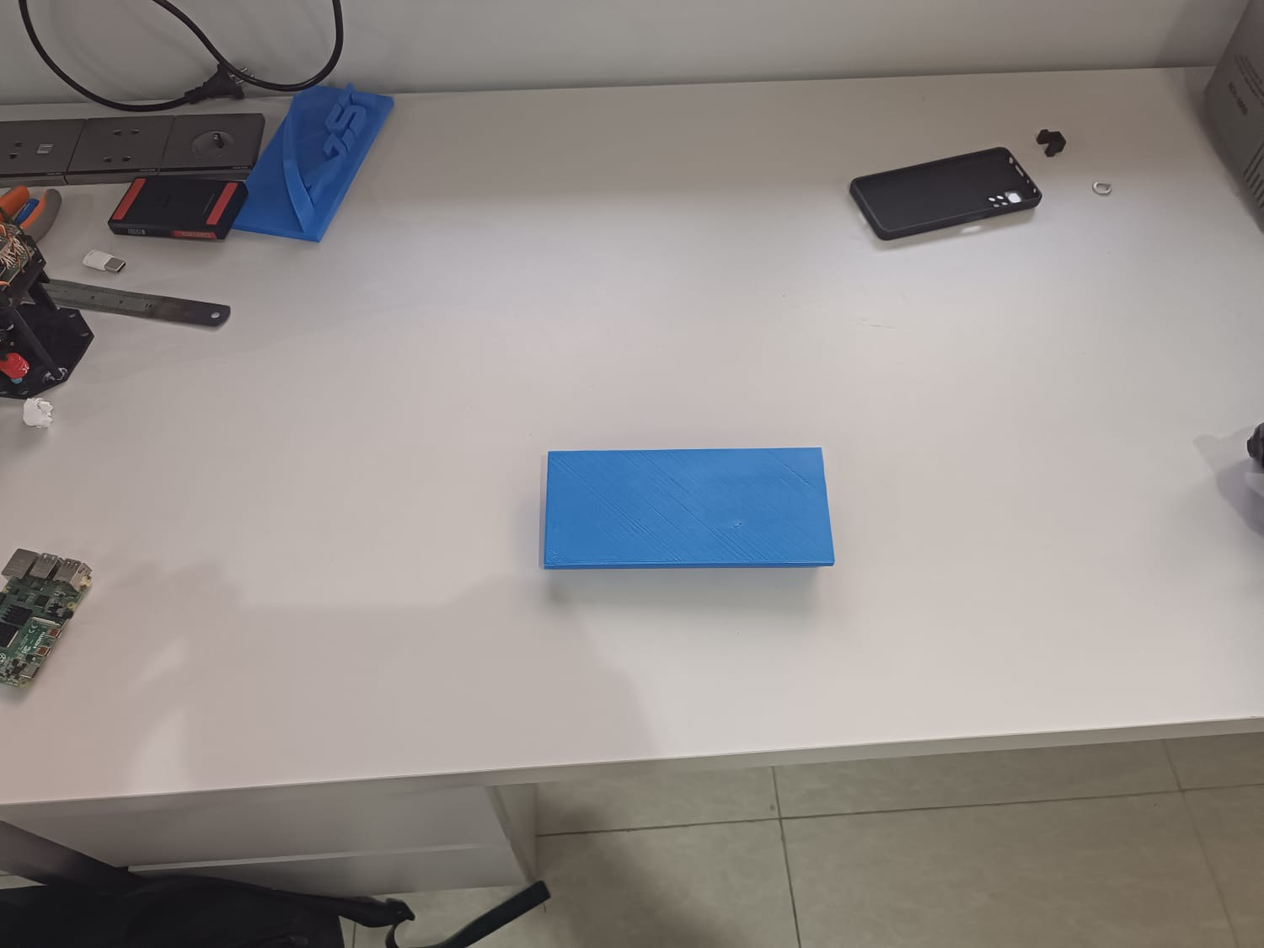Rectangular: (535, 443, 840, 575)
